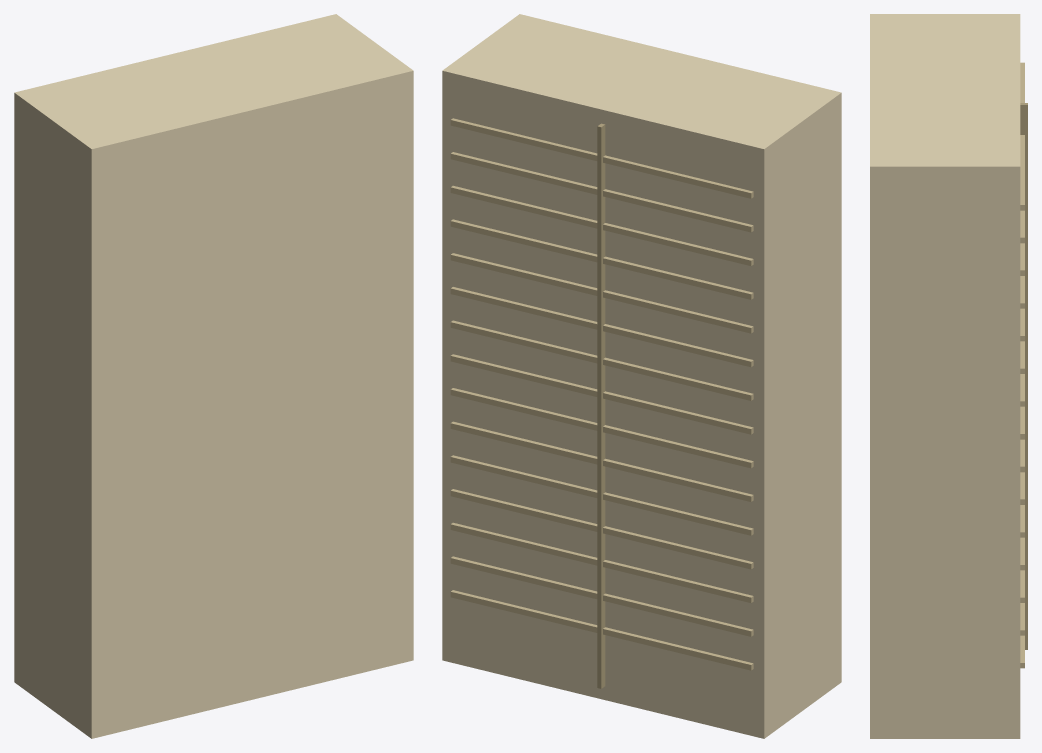
Rendered from closet.glb.
3 renders of one model, left to right at view 1: azimuth 30°, elevation 25°; view 2: azimuth 150°, elevation 25°; view 3: azimuth 270°, elevation 25°, orthographic. The views are drawn at different scales.
Parts seen in each view (by area): view 1: closet; view 2: closet; view 3: closet.
Boxes of the visible parts, left/top/right/bottom form: closet: left=14, top=14, right=413, bottom=738; closet: left=442, top=14, right=841, bottom=738; closet: left=870, top=14, right=1027, bottom=738.
Size of the model in its own units: 1.2 by 2.1 by 0.525.
